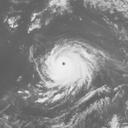cyclone: (32, 37, 102, 104)
